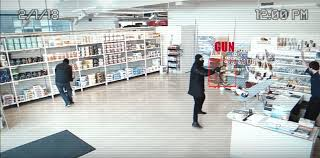gun: (213, 64, 227, 76)
